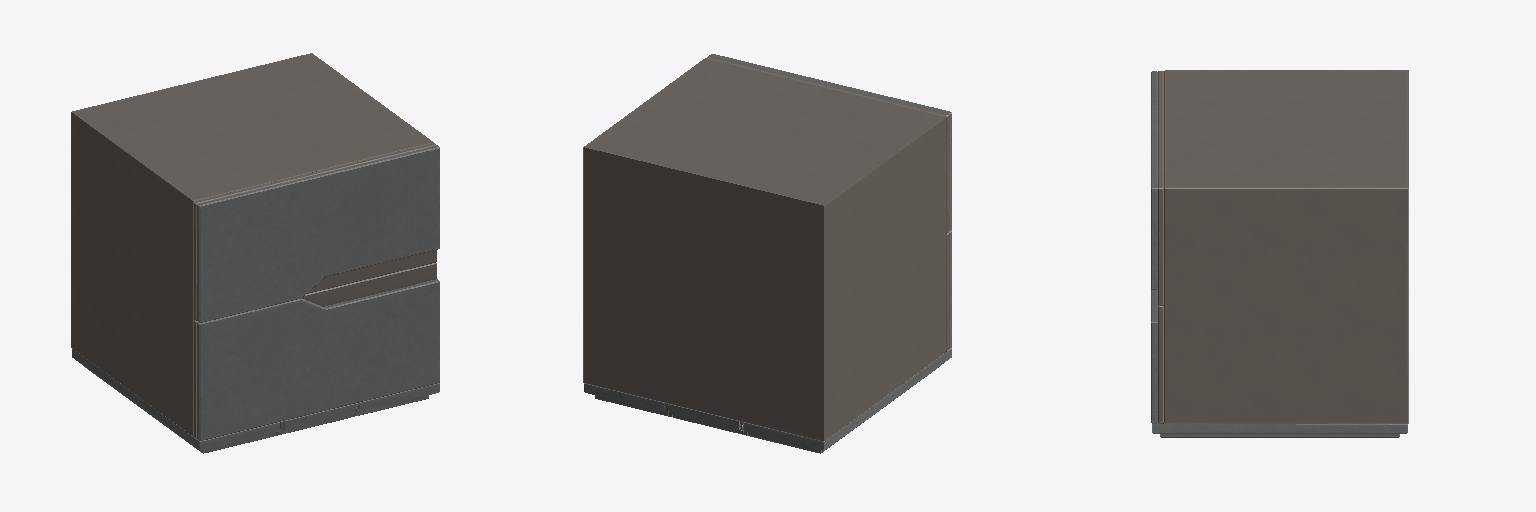
3 views of the same model, side by side, from view 1: azimuth 30°, elevation 25°; view 2: azimuth 150°, elevation 25°; view 3: azimuth 270°, elevation 25° (orthographic).
Parts seen in each view (by area): view 1: solid_001, solid_002; view 2: solid_001, solid_002; view 3: solid_001, solid_002.
Part boxes in pixels (x1,y1,x2,y2): solid_001: (71,53,436,438); solid_002: (72,145,439,453); solid_001: (583,56,948,440); solid_002: (584,54,951,453); solid_001: (1158,70,1408,423); solid_002: (1151,71,1407,437).
Bounding box in the file's own units: 0.4807 × 0.4823 × 0.4439.
1 materials, 1 textured.